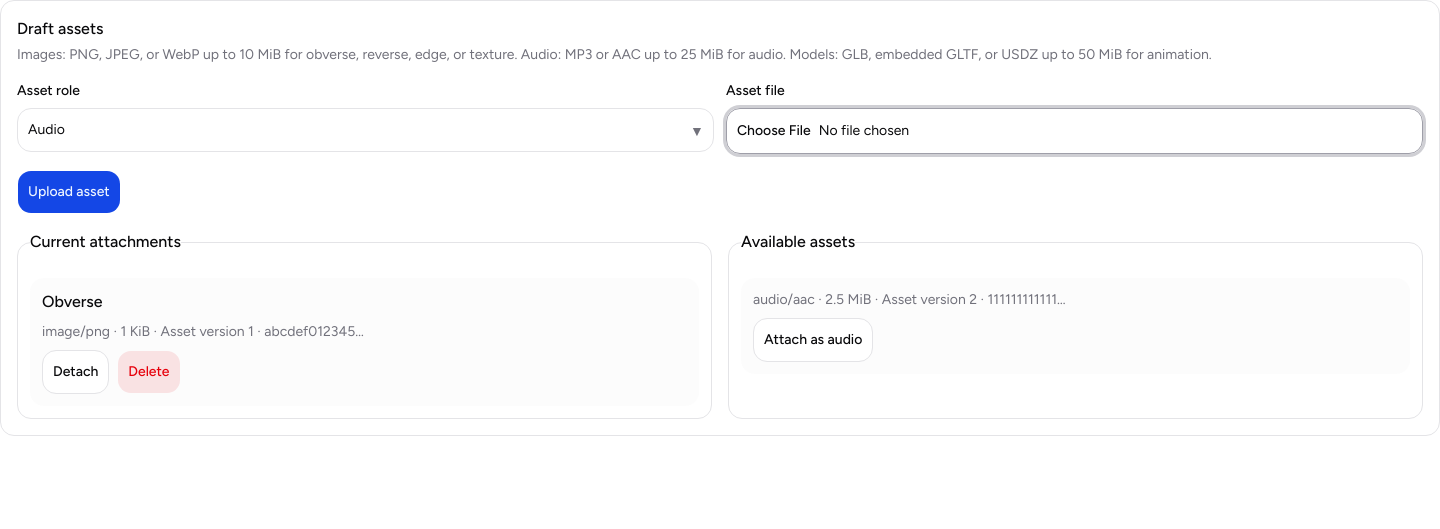
Test: AssetAttachmentsEditor › shows a safe focused 400 error while retaining the selected role
This screenshot has width=1440, height=529.
Earlier steps of the test are not shown.
Click the button "Upload asset": [69, 192] box [17,170,121,214]
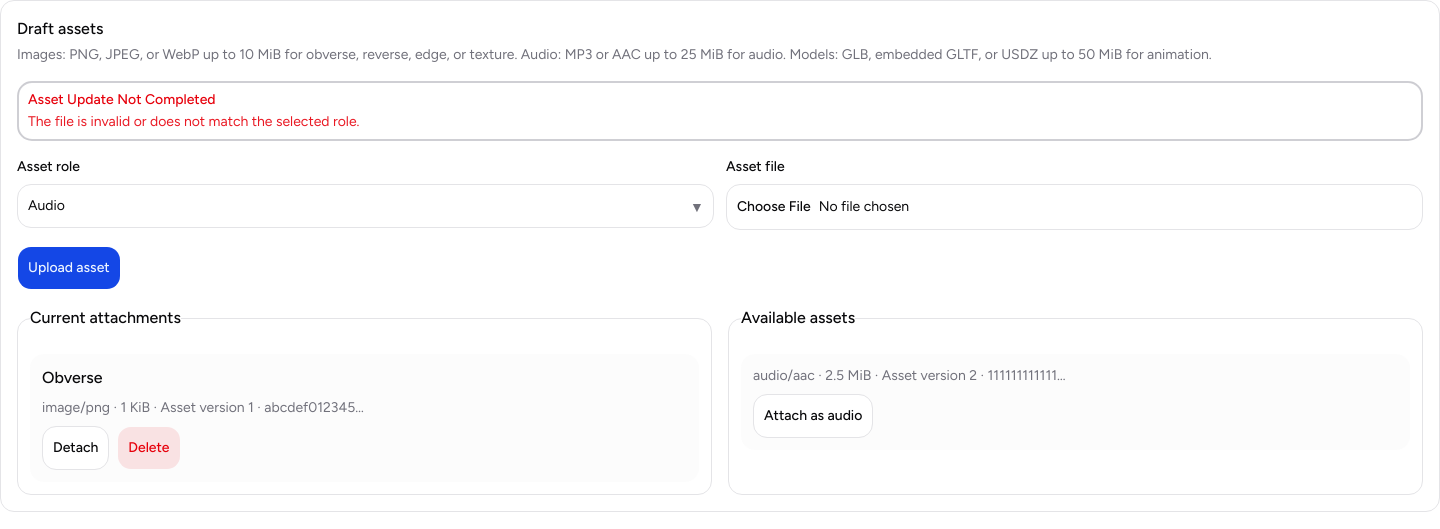
Check: the dropdown named "Asset role" shows "Audio", box [17,184,714,228]
Check: the message shows "The file is invalid or does not match the selected role.", box [28,113,360,130]
